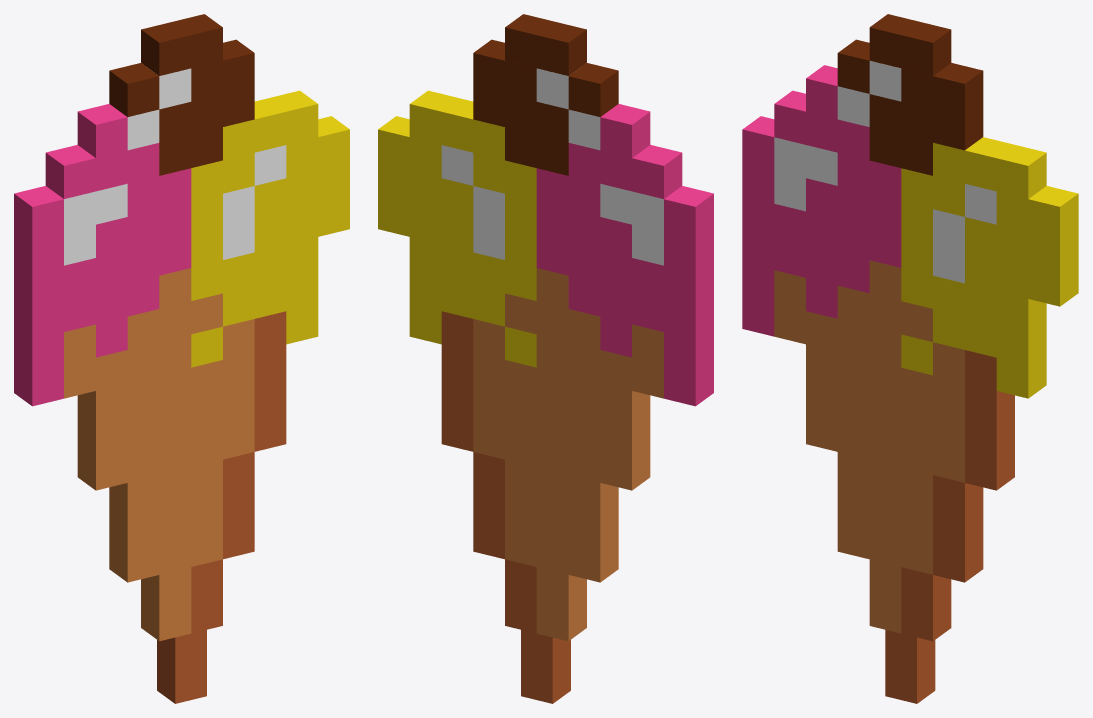
File: p_ice-cream_voxel.fbx
3 renders of one model, left to right at view 1: azimuth 30°, elevation 25°; view 2: azimuth 150°, elevation 25°; view 3: azimuth 330°, elevation 25°, orthographic.
Parts seen in each view (by area): view 1: Ice-cream.voxel.112, Ice-cream.voxel.097, Ice-cream.voxel.104, Ice-cream.voxel.086, Ice-cream.voxel.110, Ice-cream.voxel.055, Ice-cream.voxel.072, Ice-cream.voxel.073, Ice-cream.voxel.087, Ice-cream.voxel.088, Ice-cream.voxel.010, Ice-cream.voxel.106 (+100 smaller); view 2: Ice-cream.voxel.112, Ice-cream.voxel.097, Ice-cream.voxel.104, Ice-cream.voxel.086, Ice-cream.voxel.110, Ice-cream.voxel.055, Ice-cream.voxel.072, Ice-cream.voxel.073, Ice-cream.voxel.087, Ice-cream.voxel.088, Ice-cream.voxel.010, Ice-cream.voxel.106 (+100 smaller); view 3: Ice-cream.voxel.035, Ice-cream.voxel.003, Ice-cream.voxel.010, Ice-cream.voxel.111, Ice-cream.voxel.034, Ice-cream.voxel.036, Ice-cream.voxel.001, Ice-cream.voxel.002, Ice-cream.voxel.005, Ice-cream.voxel.021, Ice-cream.voxel.022, Ice-cream.voxel.004 (+100 smaller).
Part boxes in pixels (bbox=[...]): Ice-cream.voxel.112: bbox=[141, 21, 191, 75]; Ice-cream.voxel.097: bbox=[77, 104, 127, 157]; Ice-cream.voxel.104: bbox=[45, 145, 95, 198]; Ice-cream.voxel.086: bbox=[109, 63, 159, 116]; Ice-cream.voxel.110: bbox=[14, 186, 63, 239]; Ice-cream.voxel.055: bbox=[141, 595, 191, 641]; Ice-cream.voxel.072: bbox=[109, 536, 159, 582]; Ice-cream.voxel.073: bbox=[109, 503, 159, 549]; Ice-cream.voxel.087: bbox=[77, 444, 127, 490]; Ice-cream.voxel.088: bbox=[77, 411, 127, 457]; Ice-cream.voxel.010: bbox=[268, 90, 318, 144]; Ice-cream.voxel.106: bbox=[14, 327, 63, 372]; Ice-cream.voxel.112: bbox=[536, 21, 586, 75]; Ice-cream.voxel.097: bbox=[600, 104, 650, 157]; Ice-cream.voxel.104: bbox=[632, 145, 682, 198]; Ice-cream.voxel.086: bbox=[568, 63, 618, 116]; Ice-cream.voxel.110: bbox=[664, 186, 713, 239]; Ice-cream.voxel.055: bbox=[536, 595, 586, 641]; Ice-cream.voxel.072: bbox=[568, 536, 618, 582]; Ice-cream.voxel.073: bbox=[568, 503, 618, 549]; Ice-cream.voxel.087: bbox=[600, 444, 650, 490]; Ice-cream.voxel.088: bbox=[600, 411, 650, 457]; Ice-cream.voxel.010: bbox=[409, 90, 459, 144]; Ice-cream.voxel.106: bbox=[664, 327, 713, 372]; Ice-cream.voxel.035: bbox=[933, 63, 983, 116]; Ice-cream.voxel.003: bbox=[1028, 186, 1078, 239]; Ice-cream.voxel.010: bbox=[996, 145, 1046, 198]; Ice-cream.voxel.111: bbox=[901, 22, 951, 75]; Ice-cream.voxel.034: bbox=[933, 104, 983, 150]; Ice-cream.voxel.036: bbox=[885, 658, 935, 703]; Ice-cream.voxel.001: bbox=[1028, 260, 1078, 306]; Ice-cream.voxel.002: bbox=[1028, 227, 1078, 273]; Ice-cream.voxel.005: bbox=[996, 319, 1046, 365]; Ice-cream.voxel.021: bbox=[933, 536, 983, 582]; Ice-cream.voxel.022: bbox=[933, 503, 983, 549]; Ice-cream.voxel.004: bbox=[996, 352, 1046, 398].
Bounding box in the file's own units: 0.997 × 1.99 × 0.0997.
